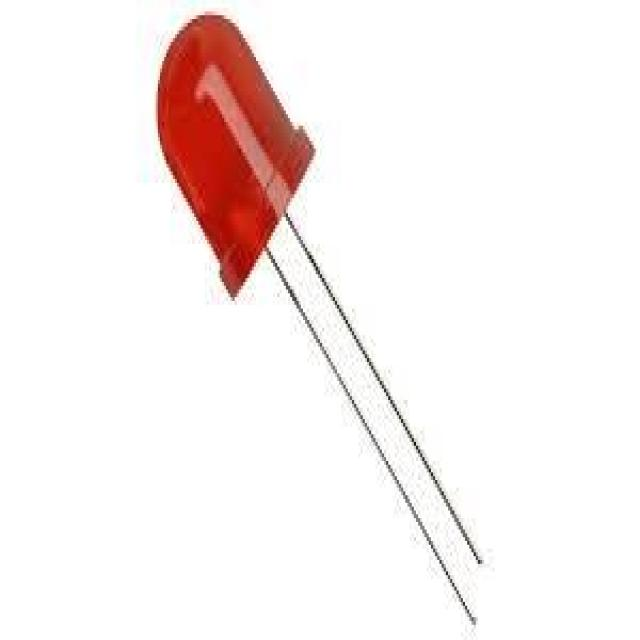Led: (158, 16, 328, 309)
